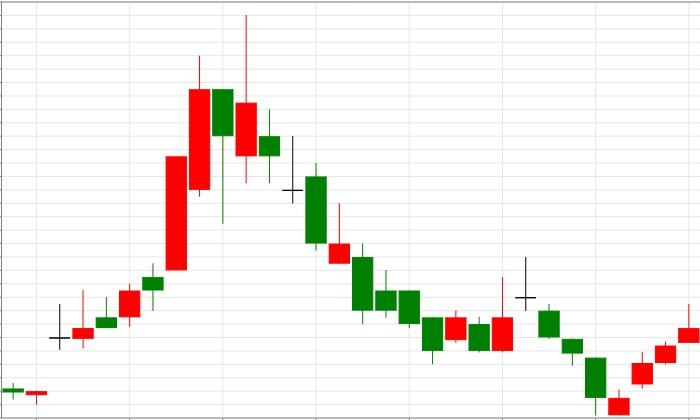bullish_engulfing_rise: (234, 14, 514, 365)
three_white_soldiers_rise: (515, 256, 677, 416)
